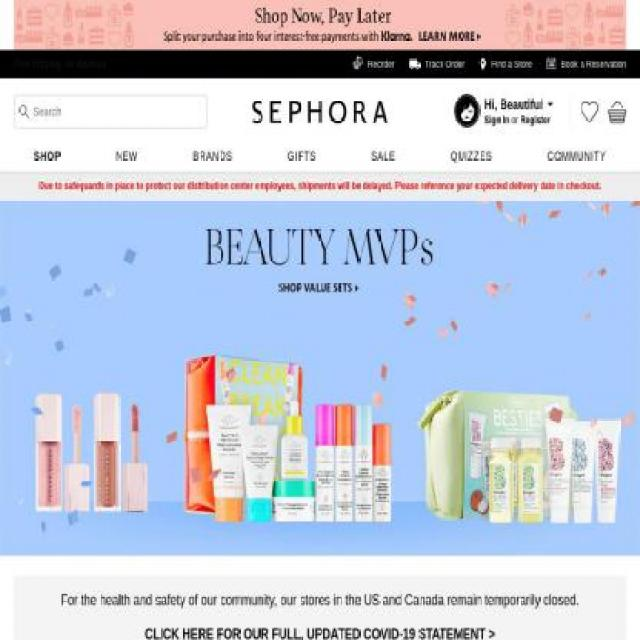button: (0, 200, 640, 557), (14, 0, 628, 51), (446, 84, 571, 138), (527, 138, 627, 172), (252, 100, 388, 123), (430, 138, 513, 172), (172, 138, 254, 172), (539, 50, 635, 78), (14, 138, 81, 172), (268, 138, 335, 172), (351, 138, 415, 172), (95, 138, 158, 172), (402, 50, 472, 78), (472, 50, 540, 78), (344, 50, 402, 78), (14, 59, 134, 70), (602, 92, 632, 131), (515, 107, 556, 135), (479, 107, 515, 135)
field: (15, 95, 207, 128)
